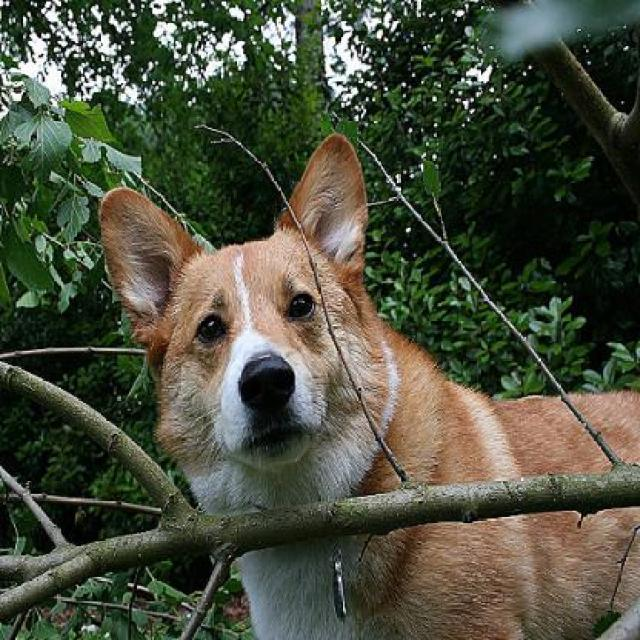Dog: (97, 134, 638, 638)
